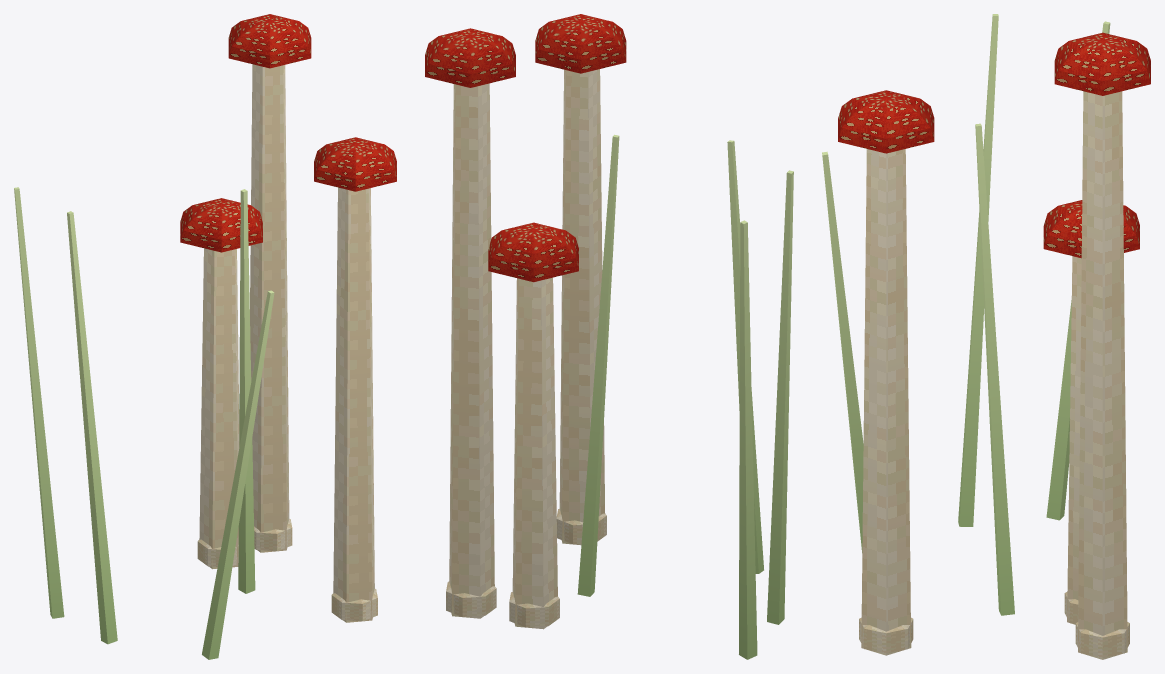
The model's file is reed_cap.glb.
The picture shows the model from 3 angles, left to right: view 1: azimuth 30°, elevation 25°; view 2: azimuth 150°, elevation 25°; view 3: azimuth 270°, elevation 25°; orthographic projection. The views are drawn at different scales.
Visible parts, largest first — view 1: reed_cap; view 2: reed_cap; view 3: reed_cap.
Boxes of the visible parts, x1=… form: reed_cap: x1=14, y1=14, x2=396, y2=659; reed_cap: x1=425, y1=14, x2=793, y2=659; reed_cap: x1=822, y1=14, x2=1150, y2=659.
Bounding box in the file's own units: 0.9986 × 1.71 × 0.8282.
4 materials, 3 textured.
